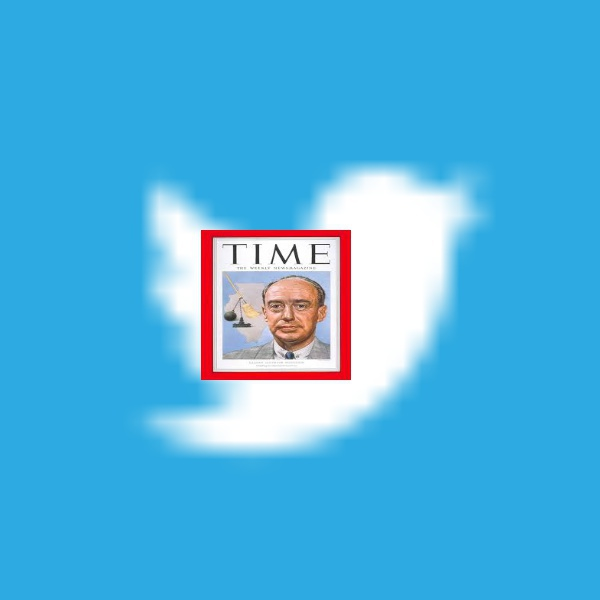time_cover: (195, 222, 354, 384)
